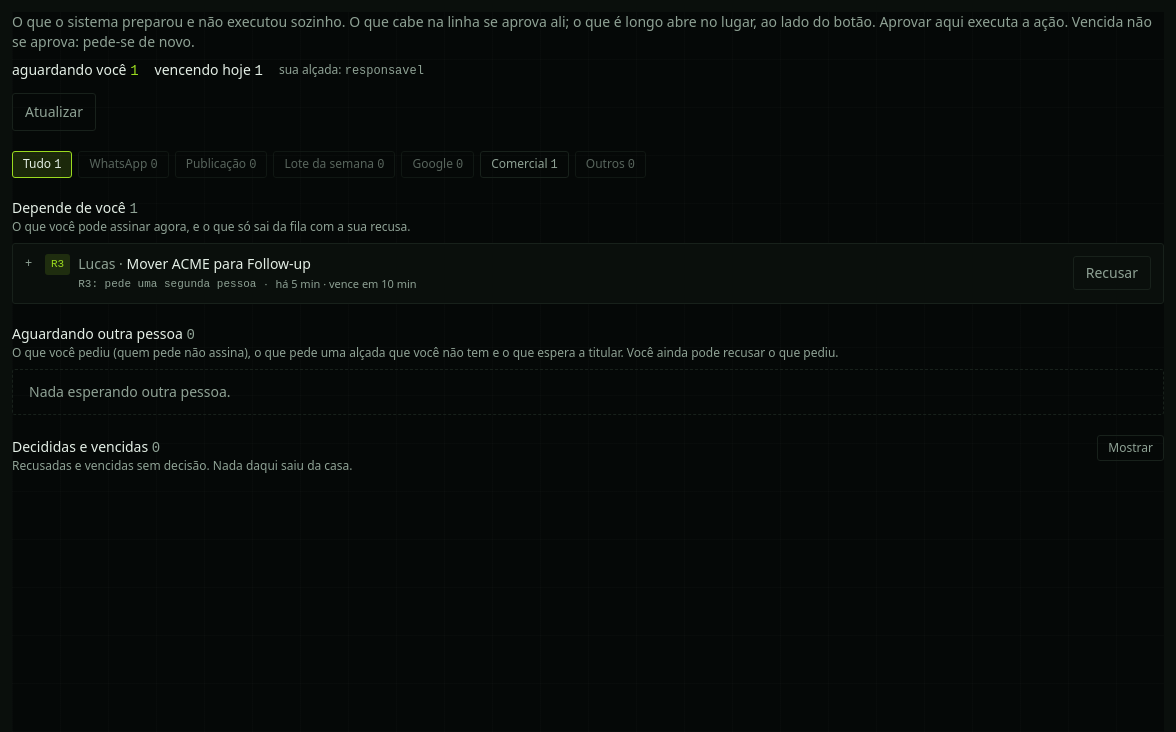
Test: P4: os três grupos › revisão PA-1: o destino da frase é o conferido no hash; o pedido que não confere fica sem assinar
Expected: the text with test id "aprov-frase-ap-forjado" reads "Mover ACME para Follow-up", left=126, top=254, right=311, bottom=273
Click the button with test id "aprov-expandir-ap-forjado". click: coordinates (97, 264)
box: left=25, top=254, right=1061, bottom=292
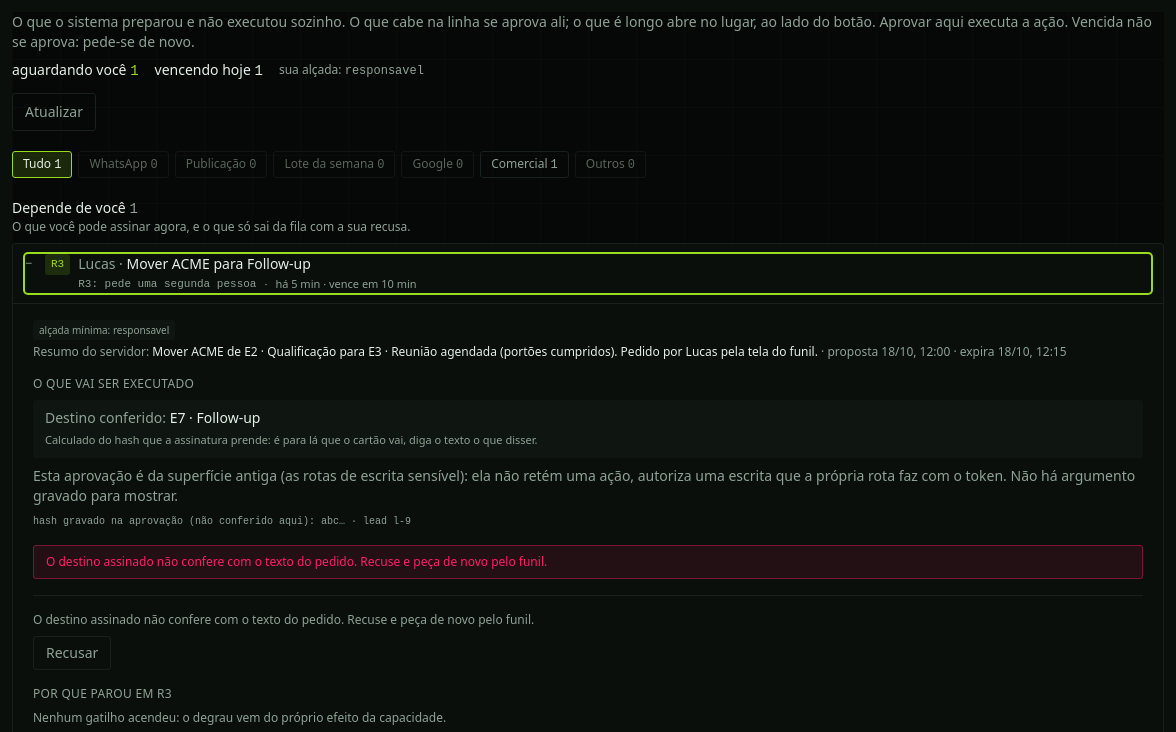
Result: the element with test id "aprov-destino-ap-forjado" shows "Destino conferido: E7 · Follow-up" at left=33, top=400, right=1143, bottom=458
Result: the text with test id "impedimento-ap-forjado" shows "não confere com o texto do pedido" at left=46, top=552, right=547, bottom=570
